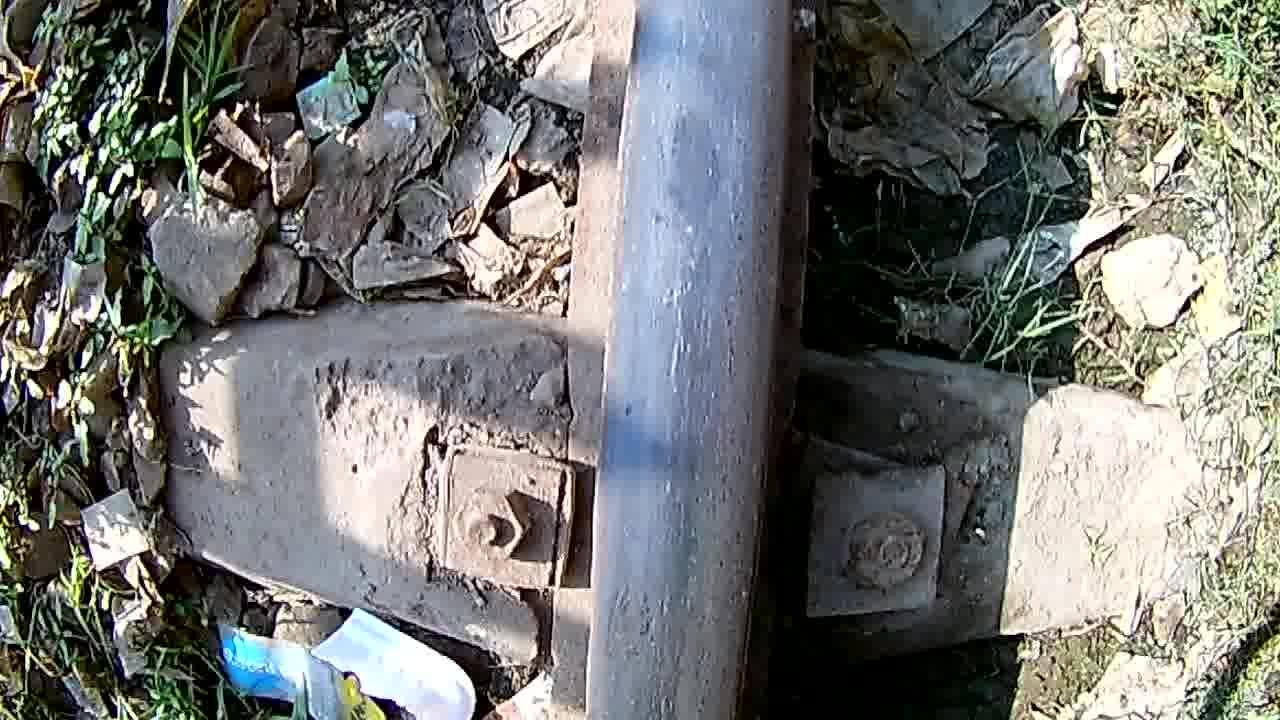crack: (622, 55, 788, 326)
